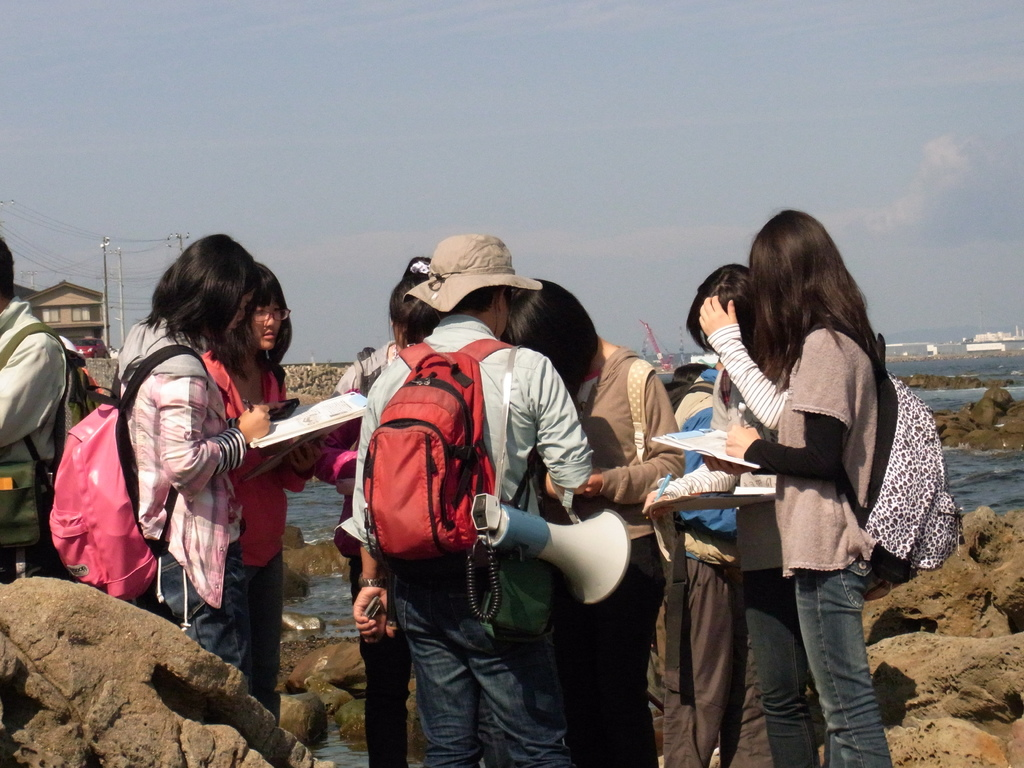Human_hand: (351, 585, 399, 648), (698, 294, 738, 345), (721, 422, 761, 460), (235, 403, 269, 445), (638, 488, 676, 522), (546, 471, 584, 503), (292, 441, 323, 477), (584, 463, 604, 500), (334, 479, 356, 502), (267, 400, 291, 413)
